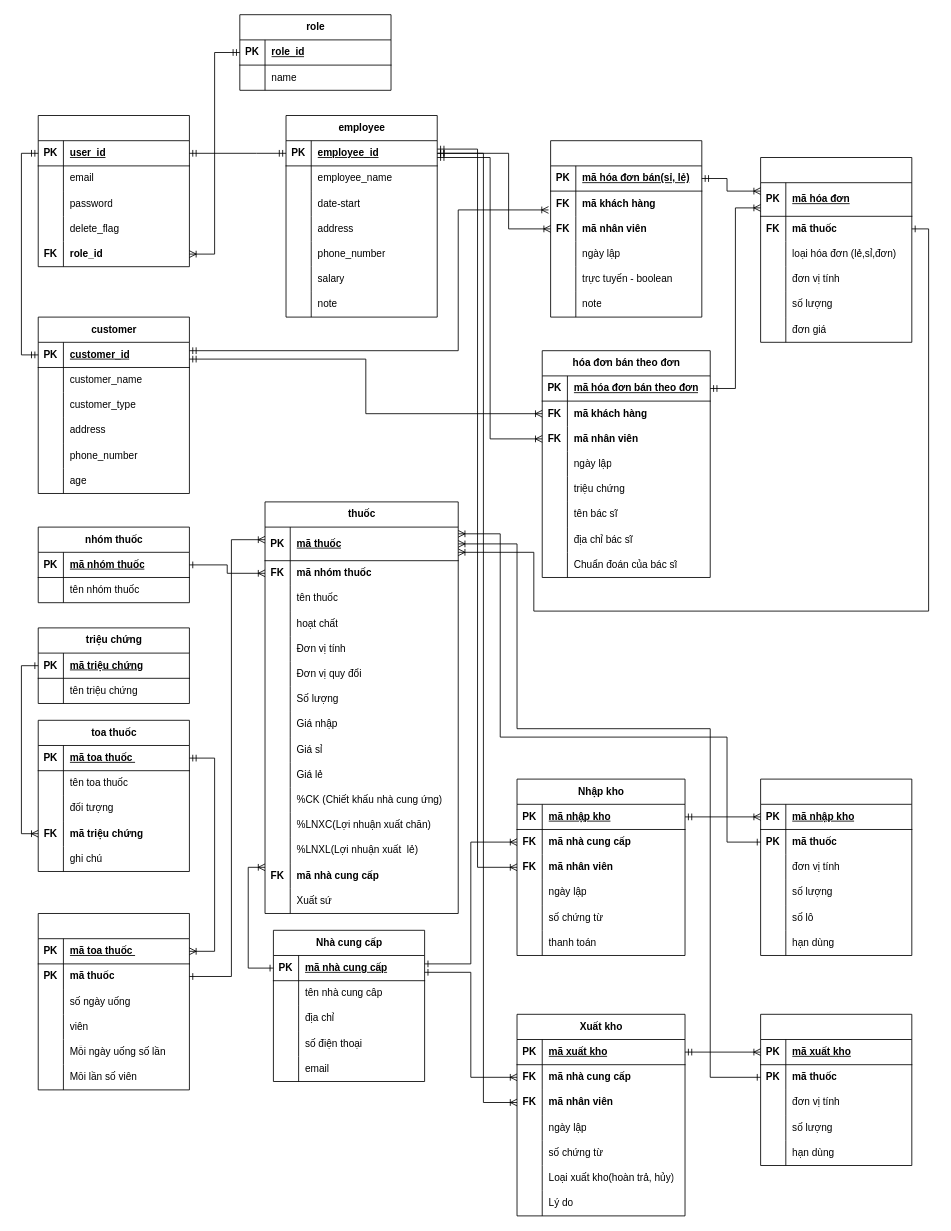
Image size: 951x1231. Some labels were removed from this diagram. Here are the shapes that lost their labels. From the top down, the box of each, then its label:
(37, 115, 189, 267): account
(550, 140, 702, 317): hóa đơn bán (bán sỉ, lẻ)
(760, 157, 912, 342): chi tiết hóa đơn
(760, 778, 912, 956): chi tiết nhập kho
(37, 913, 189, 1090): chi tiết toa thuốc
(760, 1013, 912, 1166): chi tiết xuât kho
